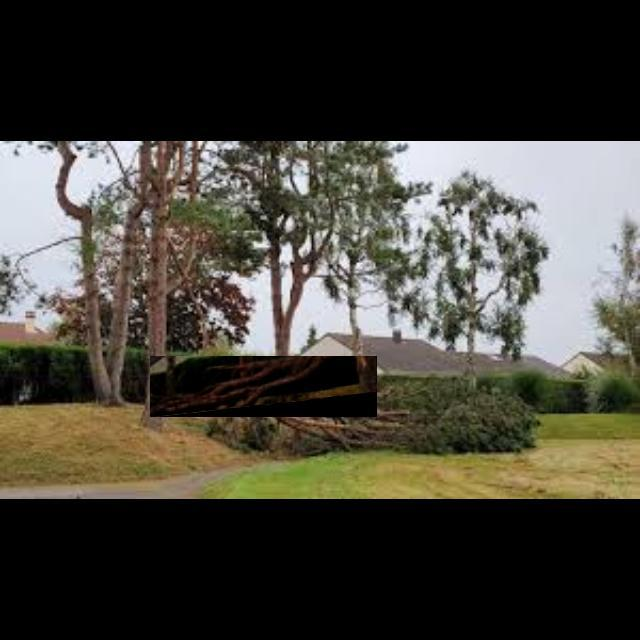fallen_tree: (150, 356, 378, 418)
